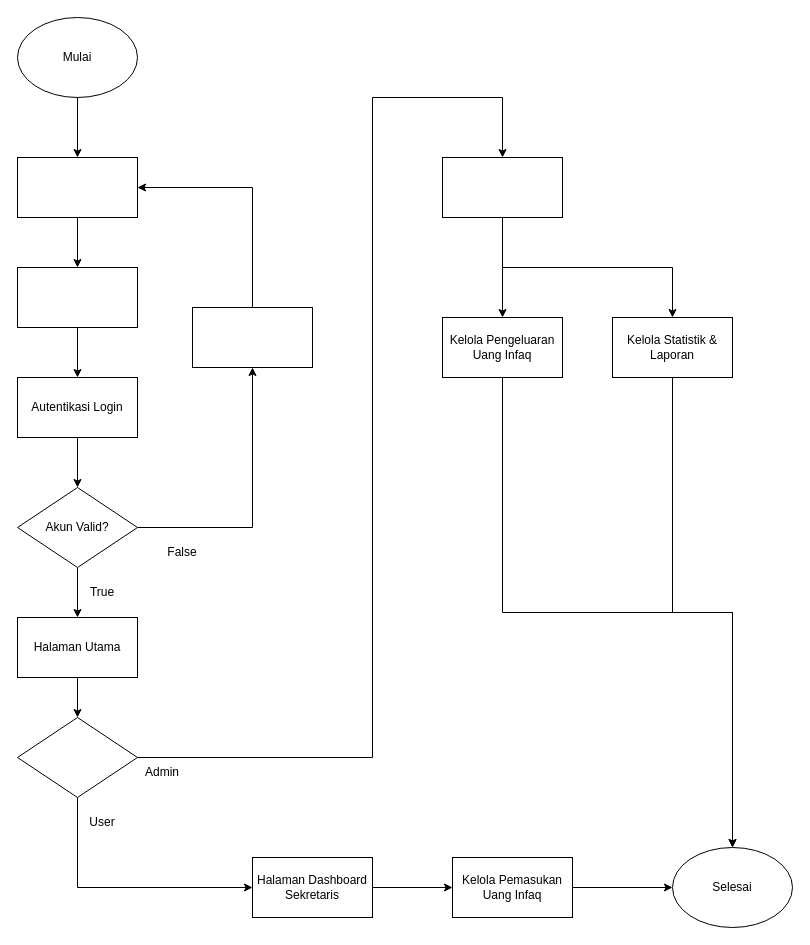
Image size: 810x945. Some labels were removed from this diagram. The shapes that lost their labels are listed below. From the top down, each one's centre as x and y in pixels, then its label:
At (77,187): "Halaman Login".
At (502,187): "Halaman Dashboard Admin".
At (77,297): "input kredensial".
At (252,337): "Pesan Error".
At (77,757): "Cek Role".
